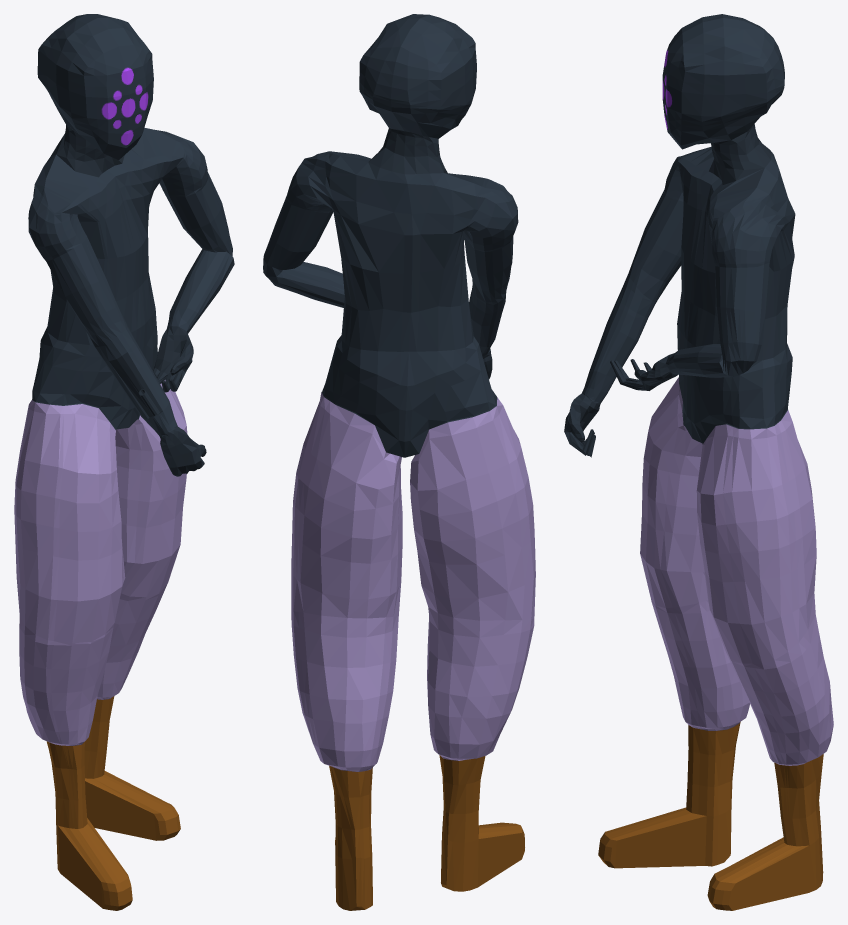
The model's file is Oracle_Attack_000002.obj.
3 renders of one model, left to right at view 1: azimuth 30°, elevation 25°; view 2: azimuth 150°, elevation 25°; view 3: azimuth 270°, elevation 25°, orthographic. The views are drawn at different scales.
Parts seen in each view (by area): view 1: Cube; view 2: Cube; view 3: Cube.
Part boxes in pixels (x1,y1,x2,y2): Cube: (14, 14, 234, 910); Cube: (263, 14, 535, 910); Cube: (564, 14, 833, 910).
Bounding box in the file's own units: 1.14 × 3.94 × 1.12.
